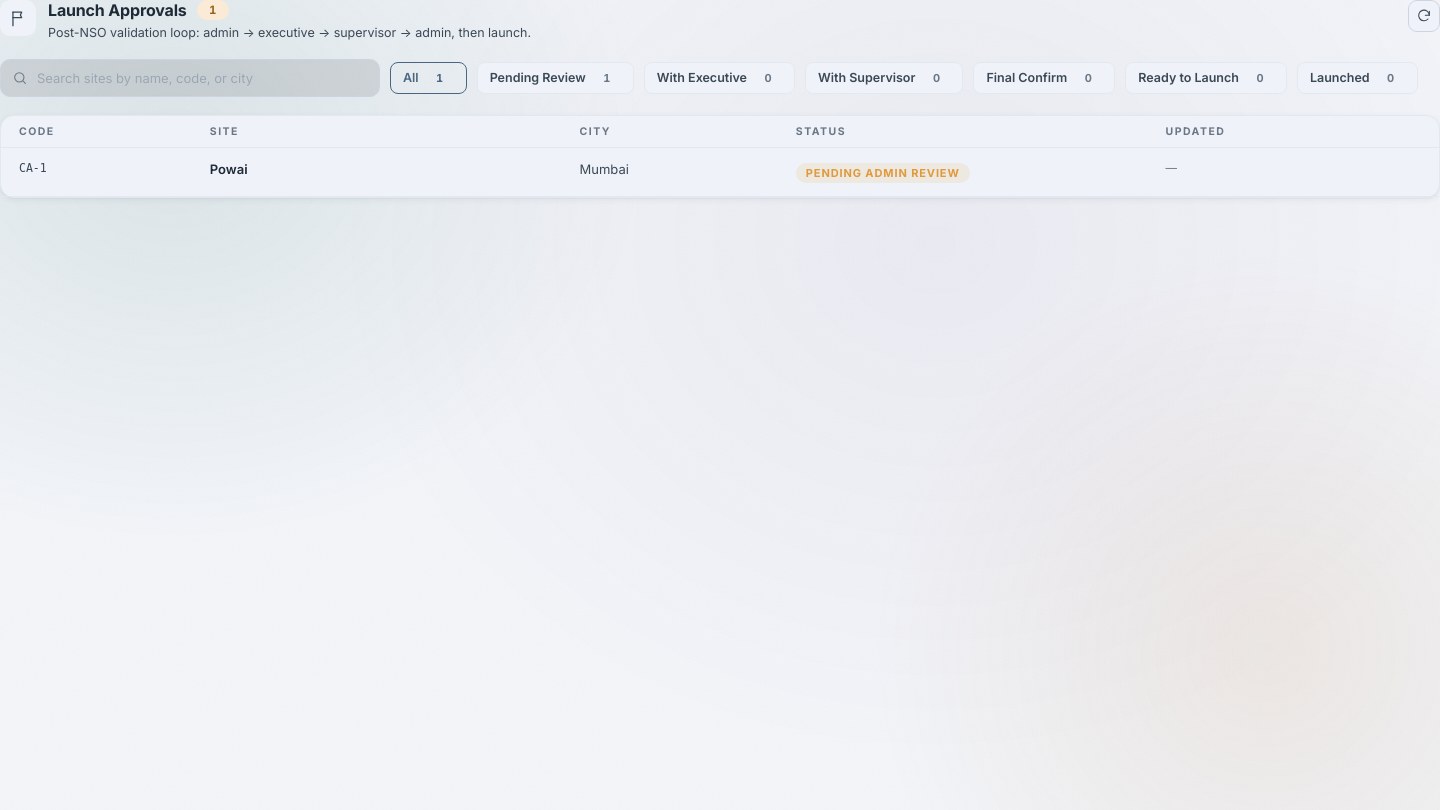
Test: LaunchApprovalTab — rent v2 › flag OFF: Edit opens the V1 four-card radiogroup (rollback)
Click the text "Powai". click: (229, 169)
box: 210,161 -> 248,177
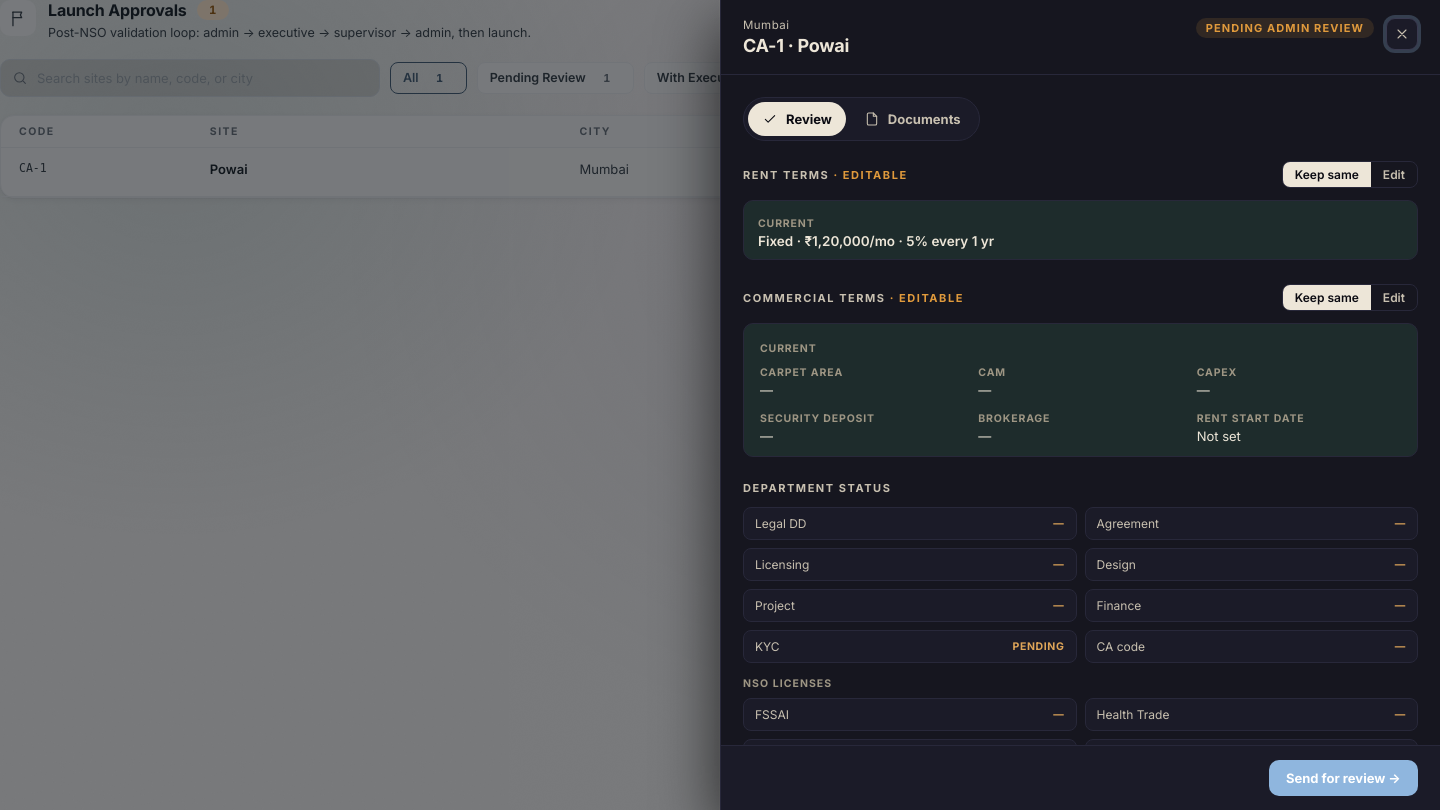
Click the button with aria-label "Edit rent terms". click: (1394, 174)
box: 1371,162 -> 1417,187
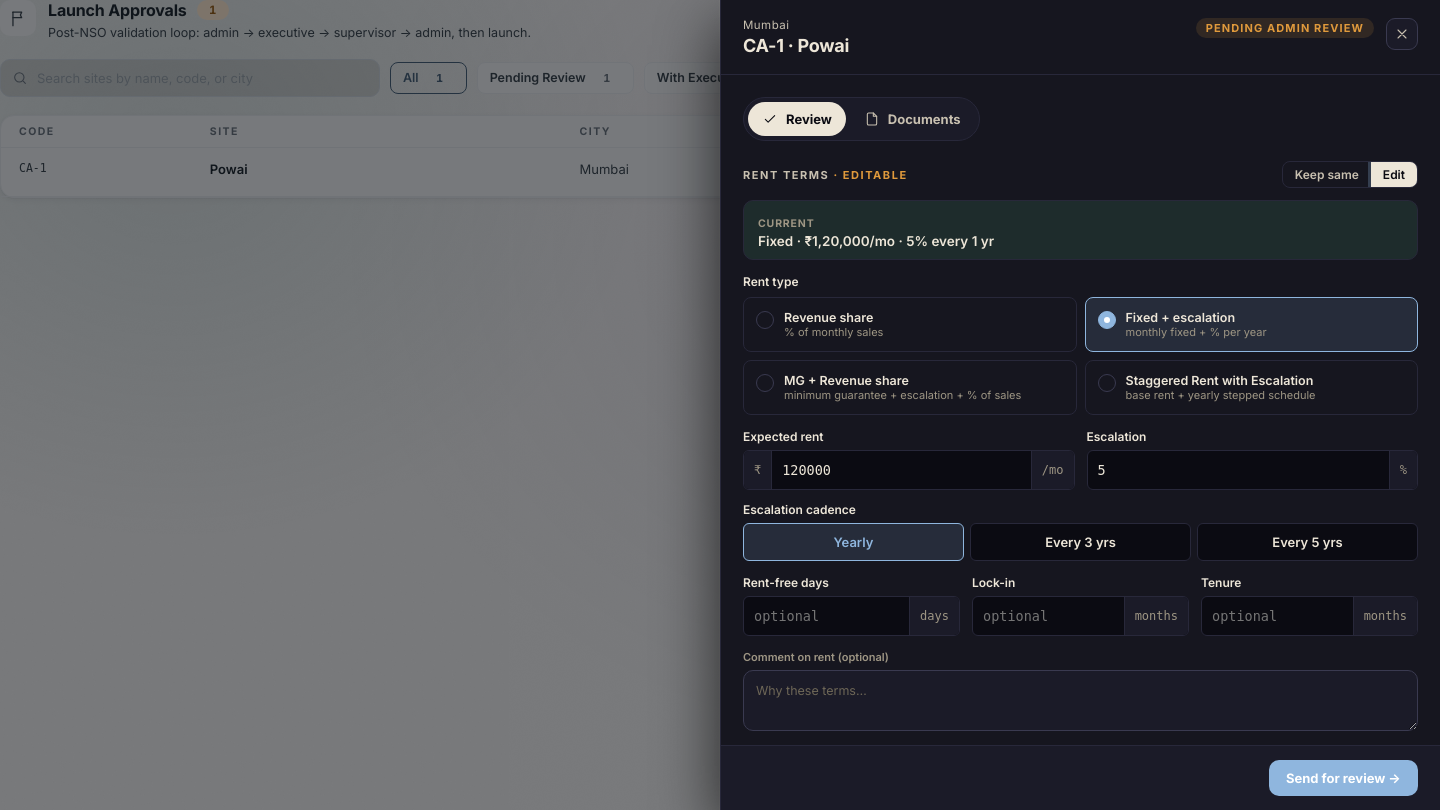
Result: the element named "Rent type" is shown at 743,297 -> 1418,415
